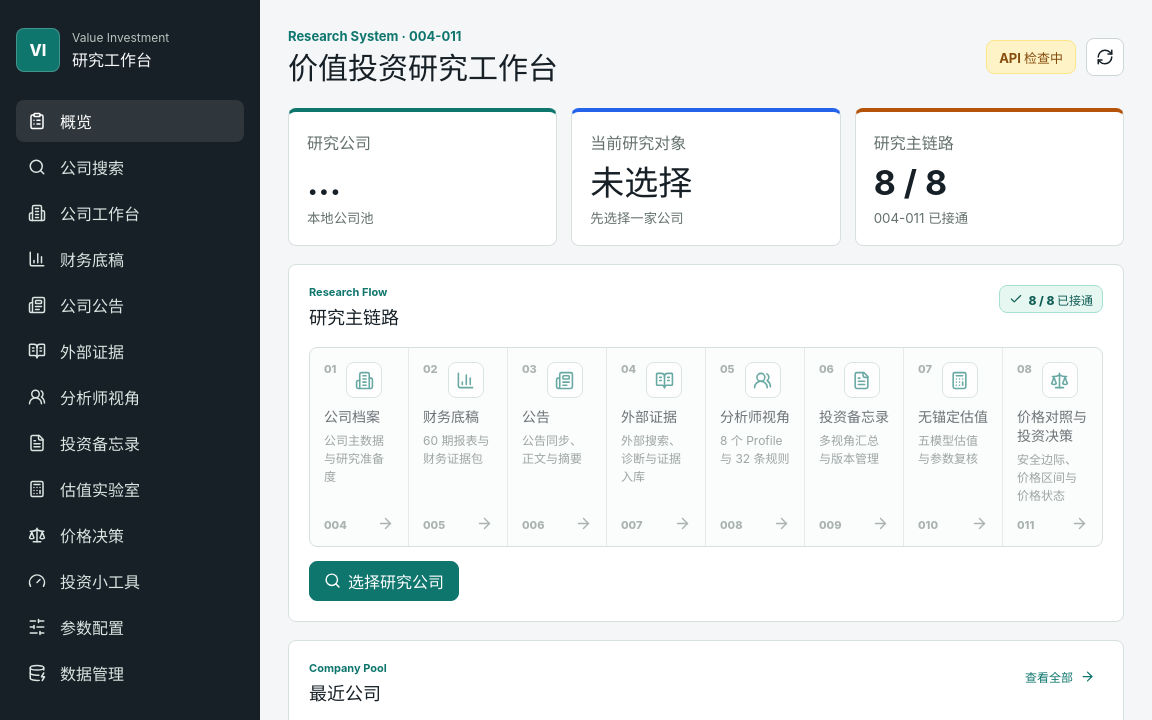
Test case: App › opens the source-backed parameter configuration center
The image size is (1152, 720).
Click the button "参数配置". click: (130, 627)
box: [16, 606, 244, 648]
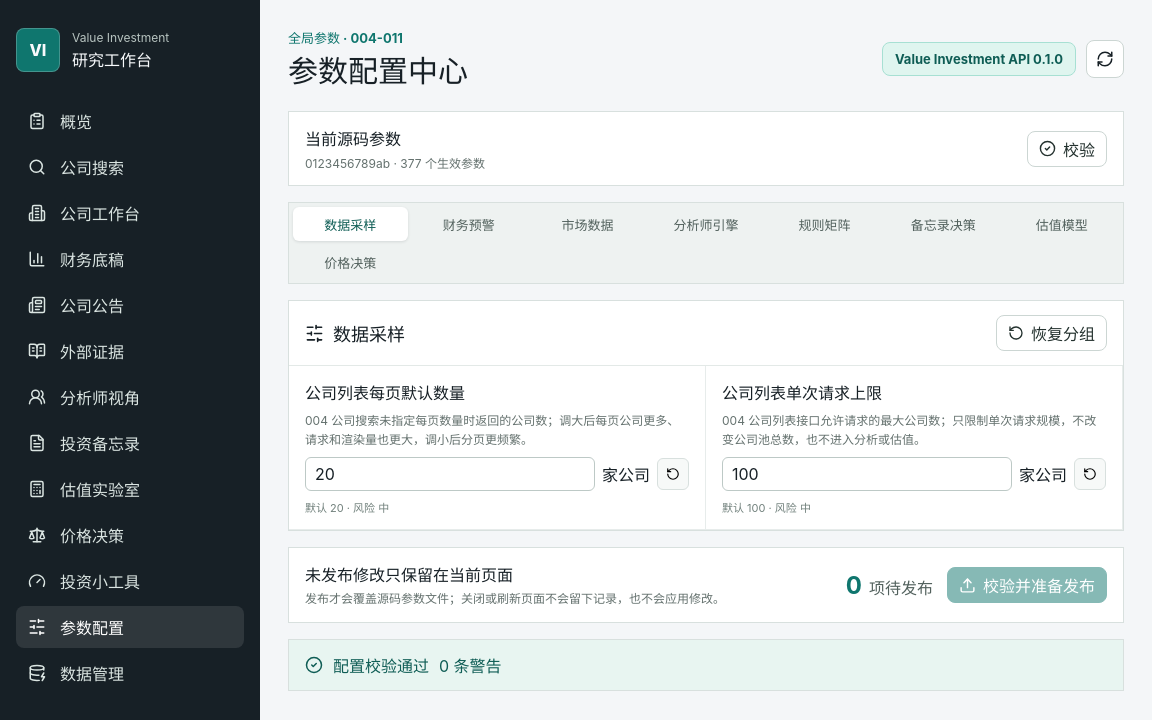
Check: the heading "参数配置中心" is shown, box [288, 53, 468, 89]
Check: the text "当前源码参数" is shown, box [305, 129, 401, 149]
Check: the text "0123456789ab · 377 个生效参数" is shown, box [305, 156, 485, 171]
